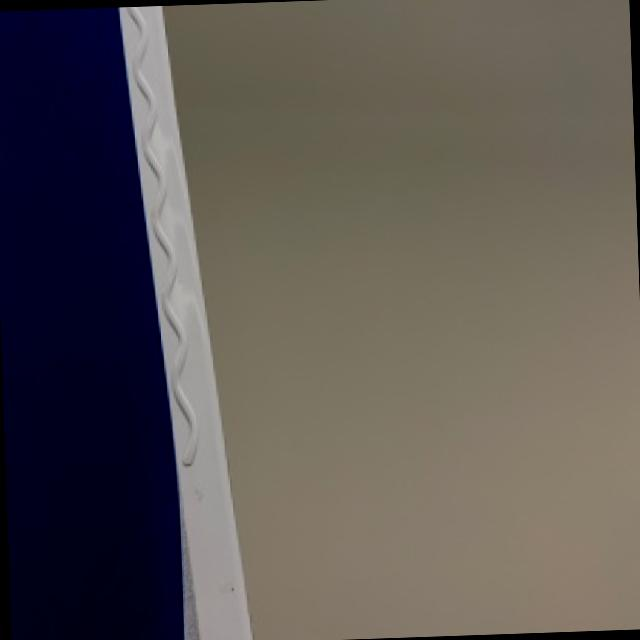healthy: (0, 5, 248, 640)
